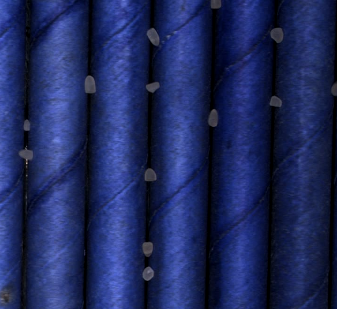broken_grain: (81, 72, 98, 96), (145, 26, 161, 49), (206, 107, 221, 131), (268, 26, 285, 46), (16, 147, 36, 162), (139, 241, 155, 259), (266, 94, 283, 110), (142, 167, 157, 183), (143, 81, 162, 93), (21, 119, 31, 133)
milky_grain: (141, 265, 156, 283)
